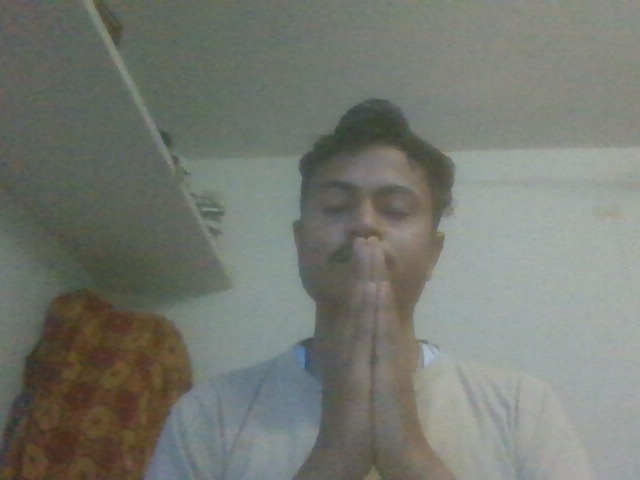Namaste: (312, 240, 434, 450)
